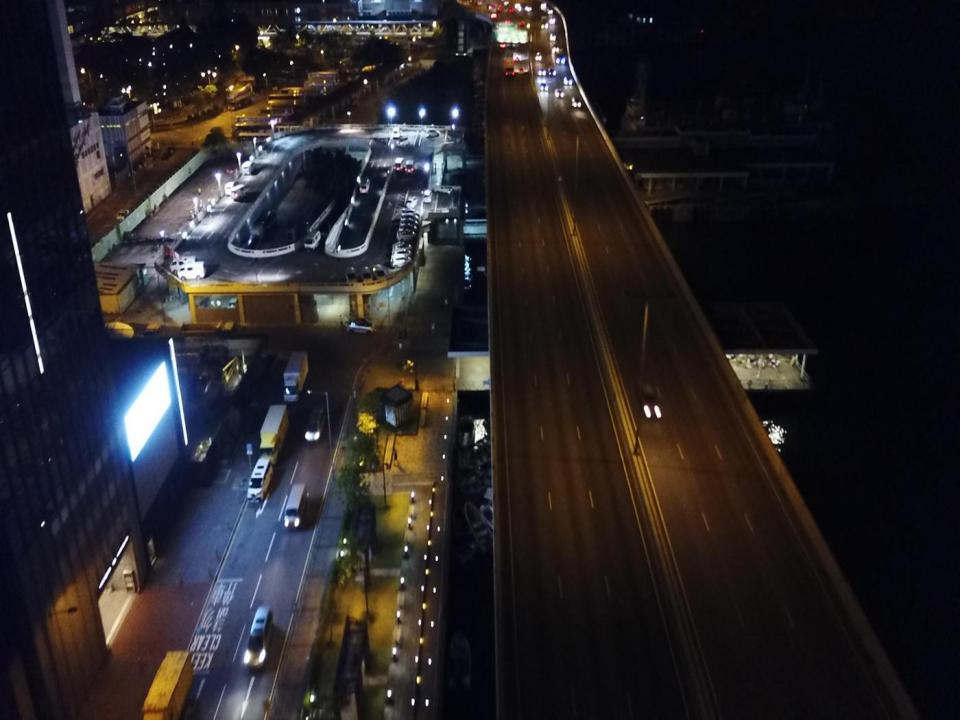bus: (237, 235, 261, 270), (234, 121, 274, 138), (236, 115, 276, 131), (227, 86, 252, 110), (257, 105, 294, 121), (252, 210, 276, 233), (237, 132, 273, 147), (267, 93, 304, 107), (268, 100, 304, 114), (308, 71, 339, 87), (281, 87, 318, 100), (303, 78, 336, 92), (504, 48, 514, 75)
car: (636, 379, 661, 420), (346, 316, 374, 334), (196, 371, 212, 395), (390, 255, 412, 269), (373, 264, 387, 283), (392, 248, 412, 260), (228, 295, 239, 315), (396, 230, 417, 240), (361, 267, 372, 286), (399, 223, 418, 234), (401, 212, 420, 223), (392, 241, 412, 251), (161, 146, 175, 160), (346, 267, 356, 286), (116, 208, 130, 221), (400, 219, 419, 228), (402, 209, 420, 218), (407, 195, 418, 208), (423, 189, 432, 203), (427, 129, 440, 137), (398, 137, 408, 147), (393, 126, 401, 138), (572, 97, 580, 107), (564, 76, 572, 85), (554, 88, 563, 96), (540, 83, 548, 91), (538, 68, 546, 75), (549, 68, 556, 75), (518, 20, 526, 26), (515, 53, 520, 62), (539, 2, 546, 8), (549, 17, 555, 24), (518, 68, 524, 75), (500, 41, 506, 48), (553, 44, 558, 52), (536, 52, 541, 60), (547, 8, 553, 14), (550, 34, 556, 40), (504, 18, 510, 24), (508, 7, 514, 12)
truck: (139, 651, 194, 719), (259, 404, 290, 464), (282, 350, 308, 402), (555, 48, 565, 63), (541, 16, 547, 28)
van: (245, 606, 275, 670), (285, 483, 307, 533), (248, 457, 272, 502), (304, 408, 327, 442), (178, 260, 206, 280), (170, 256, 198, 272), (304, 229, 321, 250), (231, 184, 250, 200), (224, 180, 239, 196), (359, 177, 370, 194), (393, 157, 404, 172), (243, 161, 254, 174), (406, 160, 415, 174)
